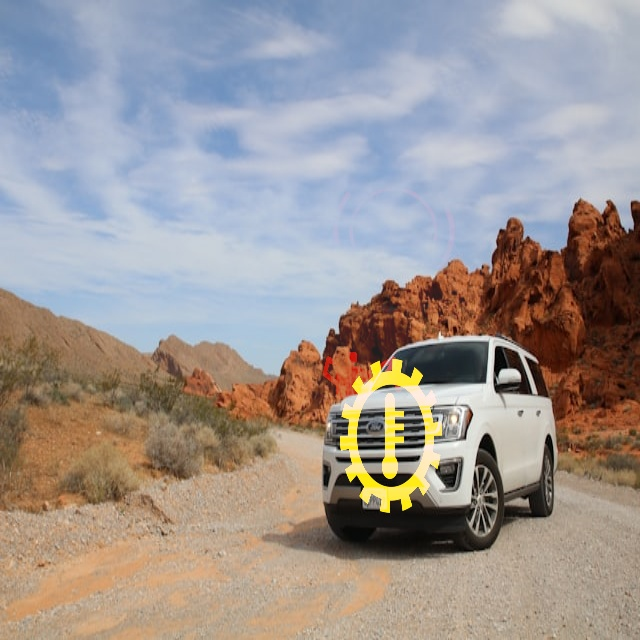symbol: (286, 328, 495, 537), (303, 143, 483, 323), (302, 310, 424, 432)
